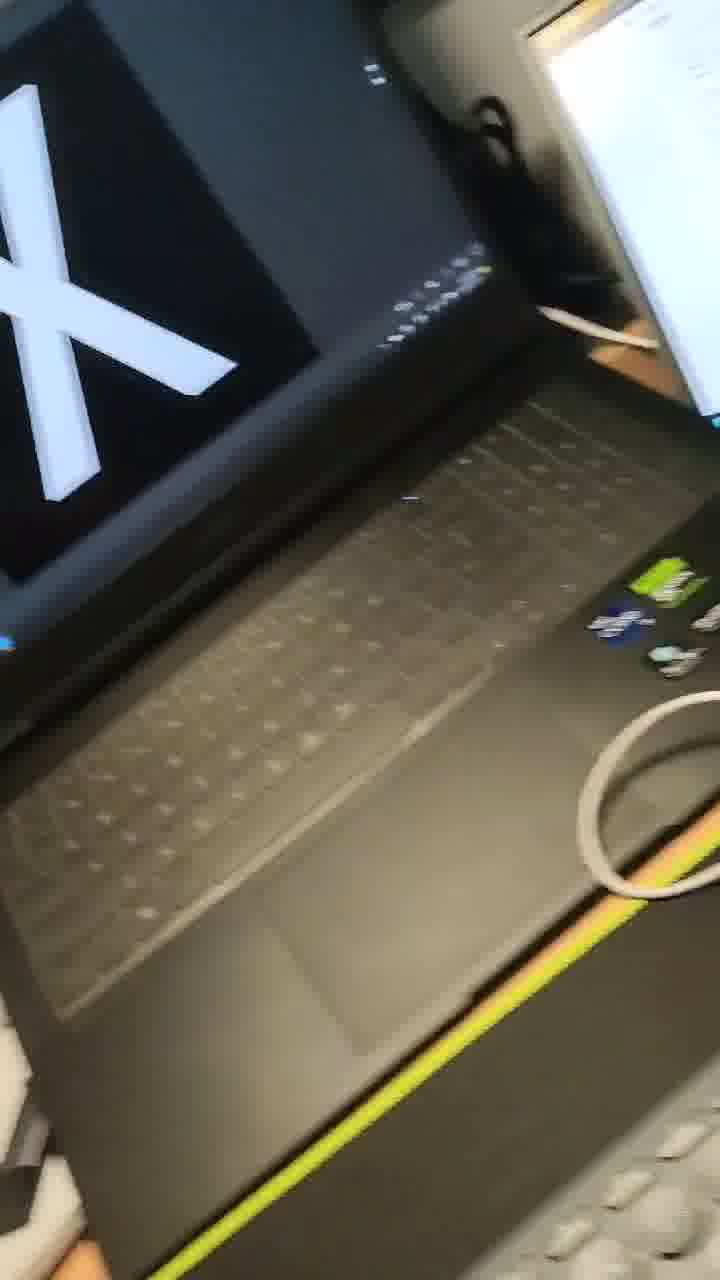X: (1, 113, 313, 518)
